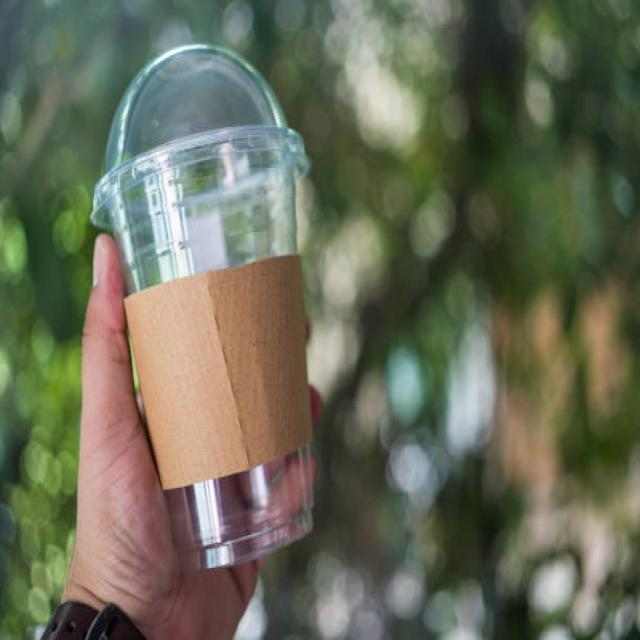cardboard: (153, 300, 300, 444)
plastic: (140, 143, 286, 257)
